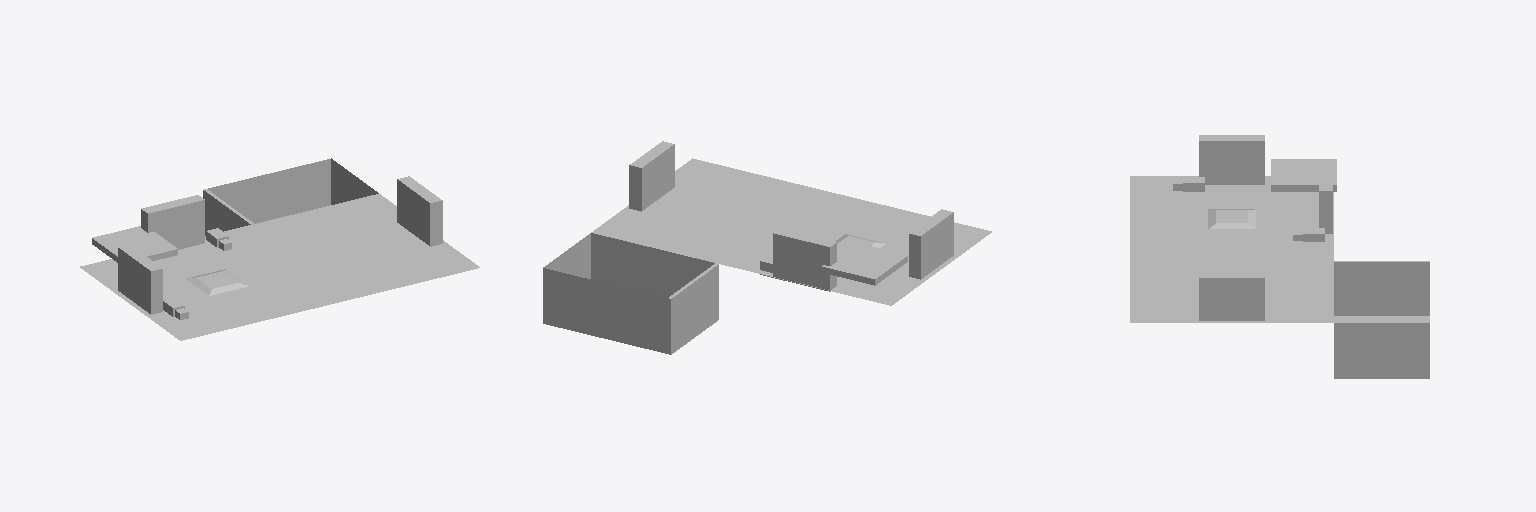
File: map.obj
3 renders of one model, left to right at view 1: azimuth 30°, elevation 25°; view 2: azimuth 150°, elevation 25°; view 3: azimuth 270°, elevation 25°, orthographic.
Visible parts, largest first — view 1: Plane, Cube.005, Cube.004, Cube, Cube.001; view 2: Plane, Cube.005, Cube.004, Cube, Cube.001; view 3: Plane, Cube, Cube.004, Cube.001, Cube.005.
Part boxes in pixels (bbox=[...]): Plane: bbox=[80, 158, 479, 340]; Cube.005: bbox=[141, 195, 204, 249]; Cube.004: bbox=[397, 176, 442, 246]; Cube: bbox=[118, 244, 162, 314]; Cube.001: bbox=[92, 226, 177, 262]; Plane: bbox=[543, 158, 991, 354]; Cube.005: bbox=[773, 228, 836, 291]; Cube.004: bbox=[629, 141, 674, 211]; Cube: bbox=[909, 209, 953, 279]; Cube.001: bbox=[822, 242, 907, 285]; Plane: bbox=[1130, 176, 1429, 378]; Cube: bbox=[1199, 135, 1264, 184]; Cube.004: bbox=[1199, 272, 1264, 320]; Cube.001: bbox=[1271, 159, 1336, 191]; Cube.005: bbox=[1319, 163, 1332, 233].
Bounding box in the file's own units: 49.36 × 15.59 × 42.55.